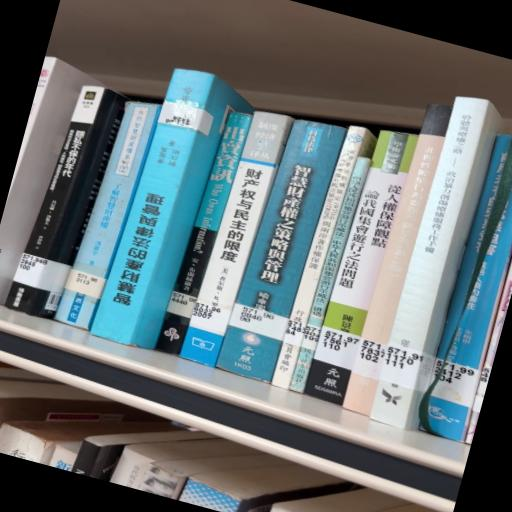reverse: (91, 70, 253, 349)
